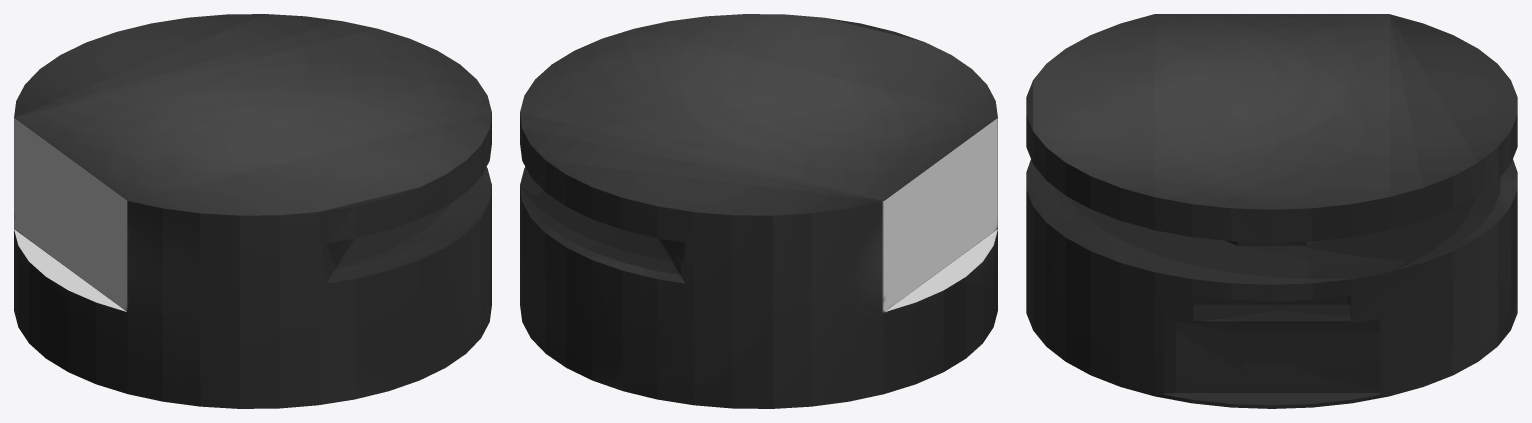
The model's file is rb1_base_v3_color.dae.
3 renders of one model, left to right at view 1: azimuth 30°, elevation 25°; view 2: azimuth 150°, elevation 25°; view 3: azimuth 270°, elevation 25°, orthographic. The views are drawn at different scales.
Visible parts, largest first — view 1: rb1_base_v3; view 2: rb1_base_v3; view 3: rb1_base_v3.
Boxes of the visible parts, bbox=[...] form: rb1_base_v3: bbox=[14, 14, 491, 408]; rb1_base_v3: bbox=[520, 14, 997, 408]; rb1_base_v3: bbox=[1026, 14, 1517, 408].
Size of the model in its own units: 0.5 by 0.4983 by 0.223.
Materials: 1 (1 with a texture image).
